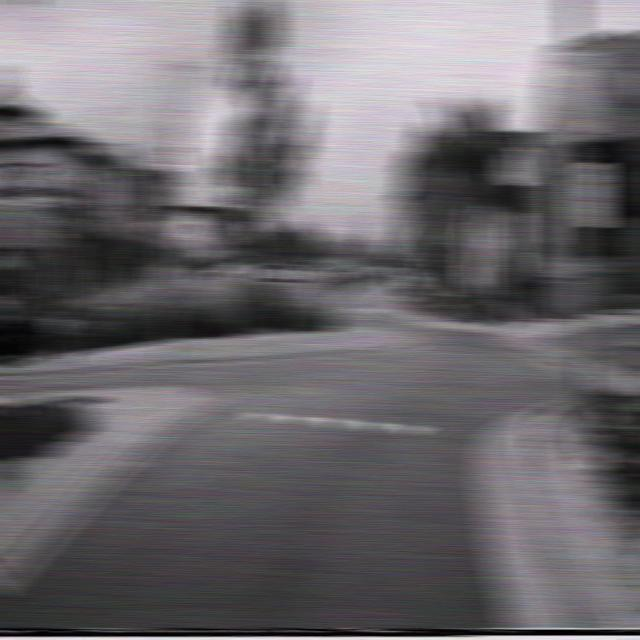pedestrianCrossing: (412, 219, 442, 254)
yield: (542, 49, 609, 140), (163, 54, 209, 113)
